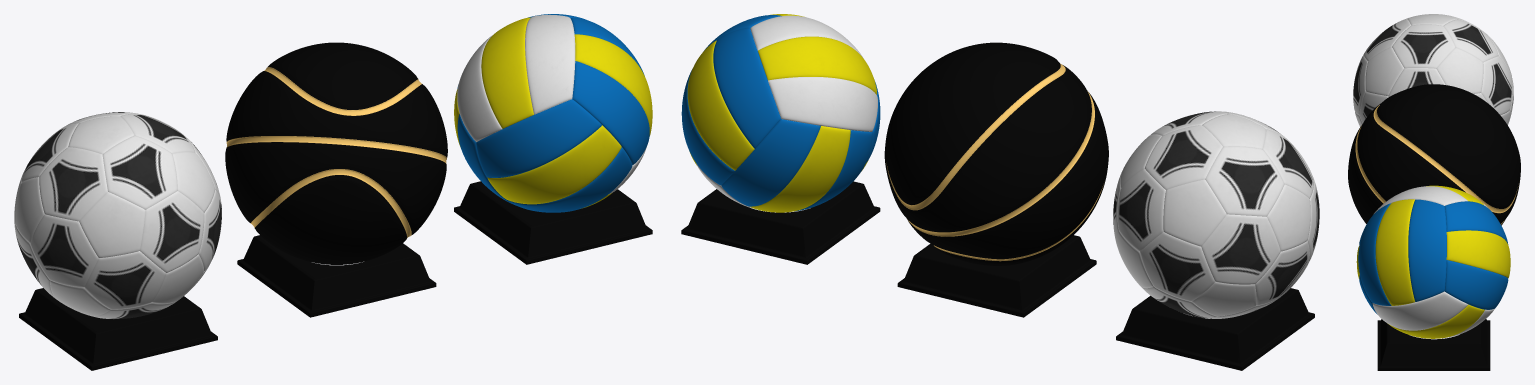
Rendered from balls.glb.
3 renders of one model, left to right at view 1: azimuth 30°, elevation 25°; view 2: azimuth 150°, elevation 25°; view 3: azimuth 270°, elevation 25°, orthographic. The views are drawn at different scales.
Visible parts, largest first — view 1: Object_2, Object_4, Object_10, Object_9, Object_5, Object_8, Object_6, Object_7, Object_11, Object_3; view 2: Object_2, Object_4, Object_10, Object_9, Object_5, Object_8, Object_7, Object_6, Object_11, Object_3; view 3: Object_2, Object_10, Object_4, Object_9, Object_8, Object_5, Object_11, Object_3.
Part boxes in pixels (x1,y1,x2,y2): Object_2: [225, 42, 447, 264]; Object_4: [14, 112, 221, 319]; Object_10: [457, 14, 649, 212]; Object_9: [454, 17, 652, 208]; Object_5: [15, 116, 214, 316]; Object_8: [454, 181, 652, 264]; Object_6: [237, 235, 436, 317]; Object_7: [19, 288, 217, 370]; Object_11: [457, 14, 646, 194]; Object_3: [226, 67, 446, 237]; Object_2: [884, 42, 1108, 265]; Object_4: [1113, 111, 1319, 318]; Object_10: [681, 15, 880, 211]; Object_9: [687, 14, 876, 212]; Object_5: [1117, 114, 1314, 316]; Object_8: [681, 181, 880, 264]; Object_7: [1116, 288, 1314, 370]; Object_6: [897, 235, 1096, 317]; Object_11: [696, 15, 877, 208]; Object_3: [886, 63, 1103, 261]; Object_2: [1348, 84, 1520, 225]; Object_10: [1358, 199, 1508, 314]; Object_4: [1353, 15, 1513, 124]; Object_9: [1356, 185, 1510, 338]; Object_8: [1377, 319, 1490, 370]; Object_5: [1355, 14, 1512, 126]; Object_11: [1372, 186, 1494, 337]; Object_3: [1355, 105, 1518, 224].
Bounding box in the file's own units: 0.7431 × 0.2585 × 0.235.
8 materials, 6 textured.
